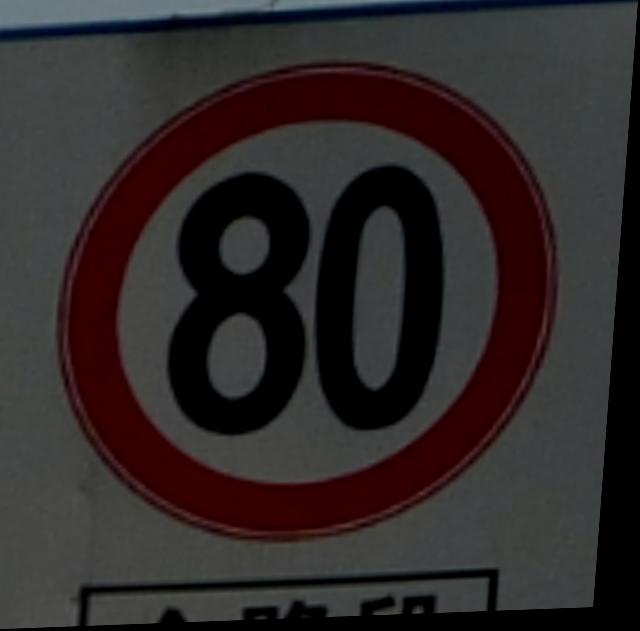limit80: (34, 45, 587, 564)
